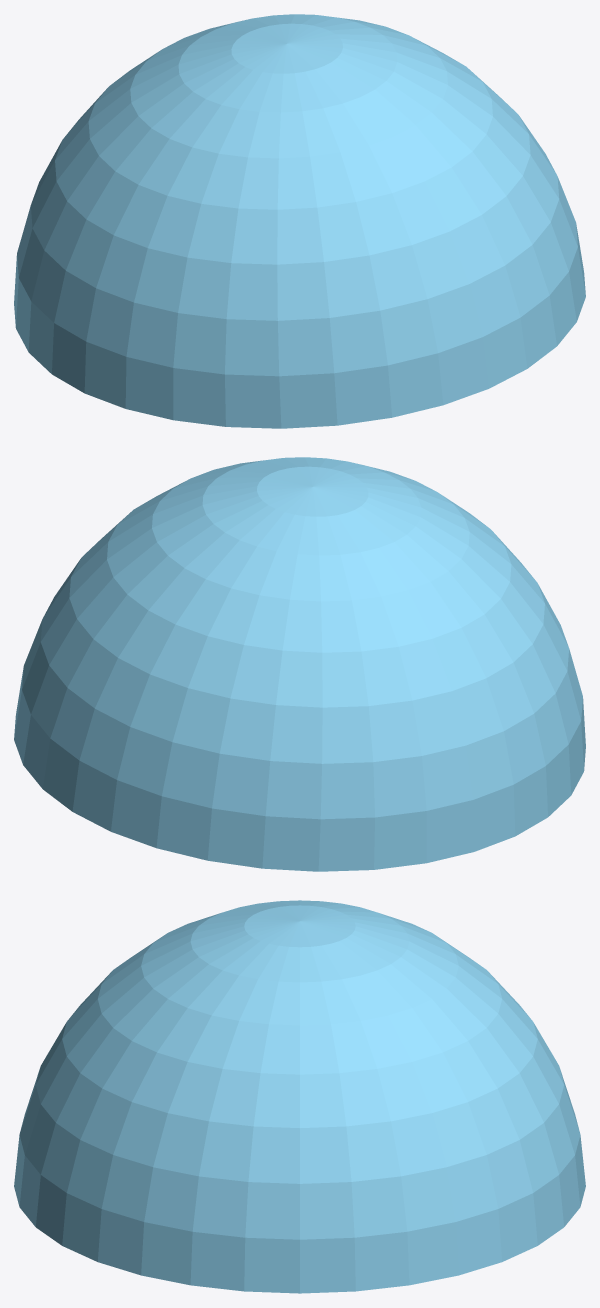
Rendered from Loma_31_5.glb.
3 views of the same model, one above another, from view 1: azimuth 30°, elevation 25°; view 2: azimuth 150°, elevation 25°; view 3: azimuth 270°, elevation 25° (orthographic).
Parts seen in each view (by area): view 1: Sphere; view 2: Sphere; view 3: Sphere.
Part boxes in pixels (x1,y1,x2,y2): Sphere: [14, 14, 585, 428]; Sphere: [14, 457, 585, 871]; Sphere: [14, 900, 585, 1293].
Size of what is drawn, in the model's own units: 15978 by 8408 by 16000.
